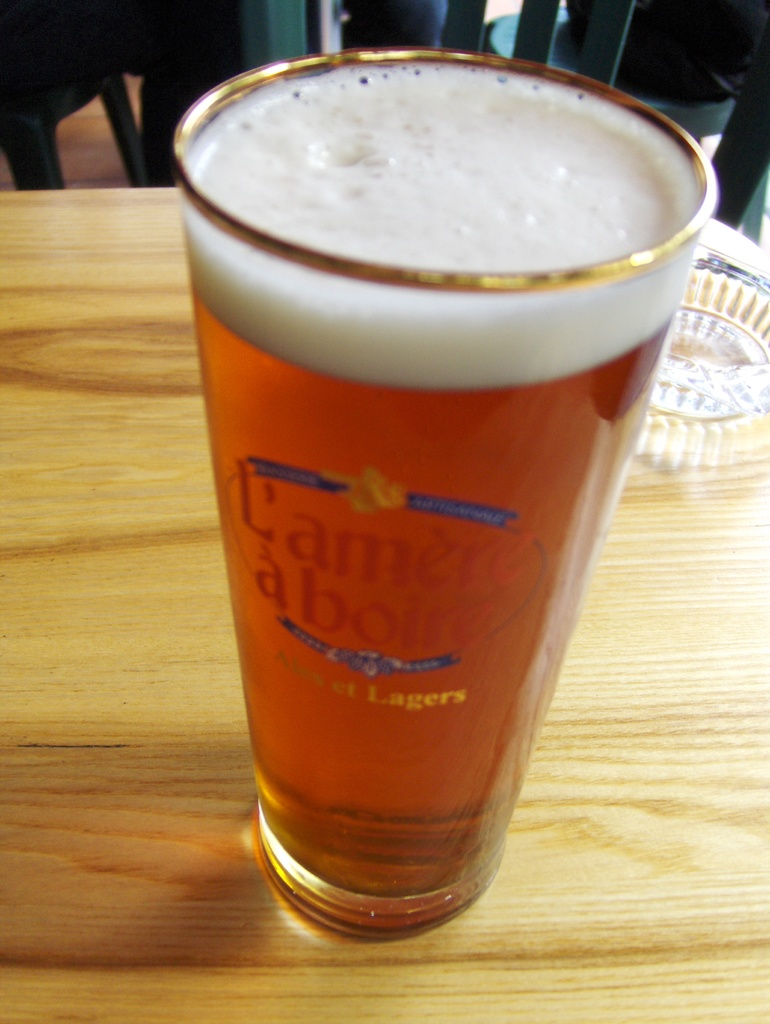Beer: (177, 58, 702, 906)
